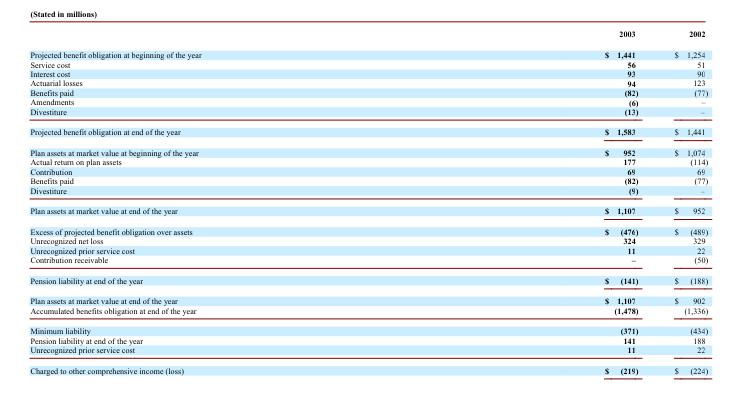table: (29, 29, 707, 374)
table column: (29, 29, 402, 374), (402, 29, 655, 374), (655, 29, 707, 374)
table column header: (29, 29, 707, 43)
table row: (29, 269, 707, 290), (29, 121, 707, 141), (29, 200, 707, 220), (29, 43, 707, 59), (29, 106, 707, 121), (29, 141, 707, 156), (29, 185, 707, 200), (29, 220, 707, 235), (29, 254, 707, 269), (29, 290, 707, 305), (29, 305, 707, 320), (29, 320, 707, 335), (29, 344, 707, 359), (29, 359, 707, 374), (29, 29, 707, 43), (29, 68, 707, 78), (29, 96, 707, 106), (29, 156, 707, 166), (29, 175, 707, 185), (29, 235, 707, 245), (29, 59, 707, 68), (29, 78, 707, 87), (29, 87, 707, 96), (29, 166, 707, 175), (29, 245, 707, 254), (29, 335, 707, 344)
